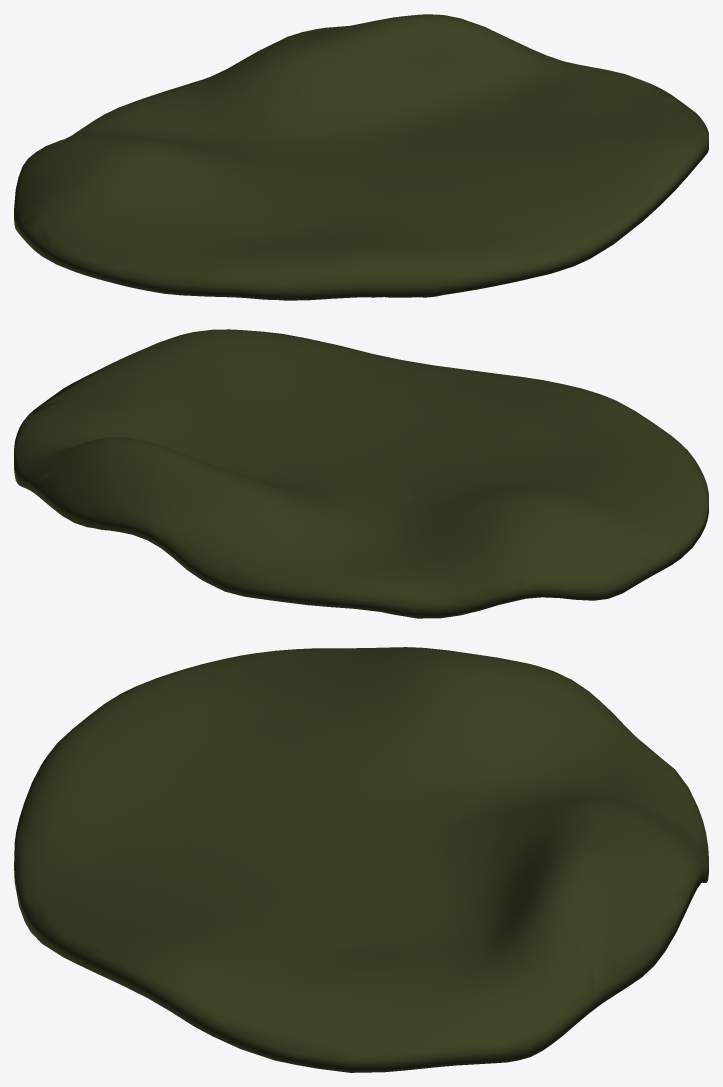
The model's file is Ground.fbx.
The picture shows the model from 3 angles, top to bottom: view 1: azimuth 30°, elevation 25°; view 2: azimuth 150°, elevation 25°; view 3: azimuth 270°, elevation 25°; orthographic projection. The views are drawn at different scales.
Parts seen in each view (by area): view 1: Ground; view 2: Ground; view 3: Ground.
Boxes of the visible parts, x1,y1,x2,y2 form: Ground: [14, 14, 708, 300]; Ground: [14, 329, 708, 618]; Ground: [14, 647, 708, 1072].
Size of the model in its own units: 1810 by 228 by 1346.
